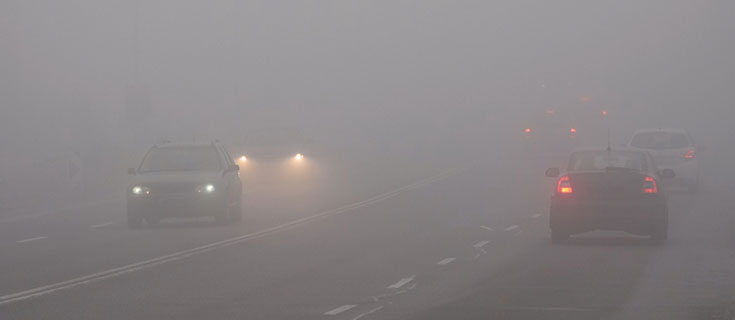car: (546, 144, 670, 243), (121, 141, 240, 227), (622, 127, 699, 192), (231, 126, 312, 176), (519, 110, 583, 146), (564, 91, 615, 131)
